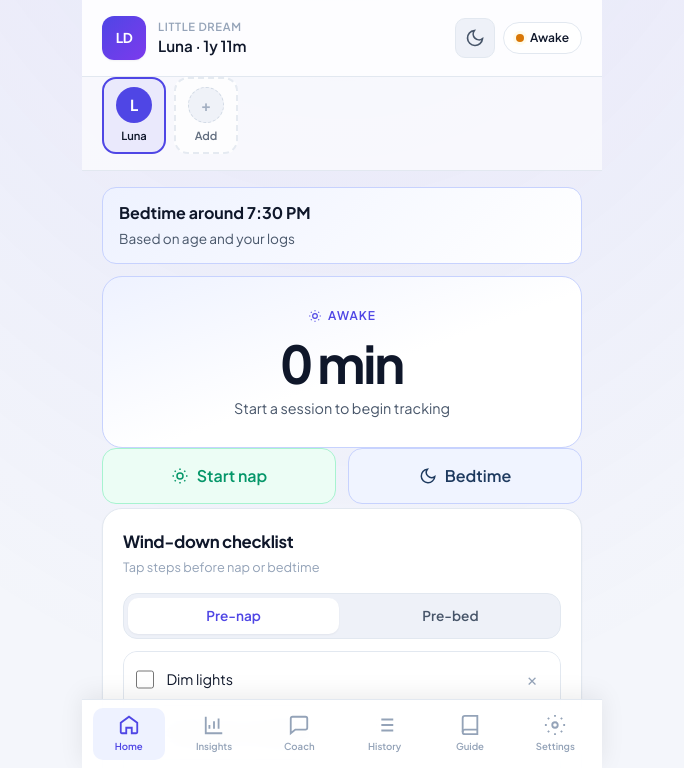
Test: App › shows time prompt when starting a nap and logs on Use now
The image size is (684, 768).
Step 1. Click the button "Start nap" → coordinates (219, 476), box [102,448,336,504]
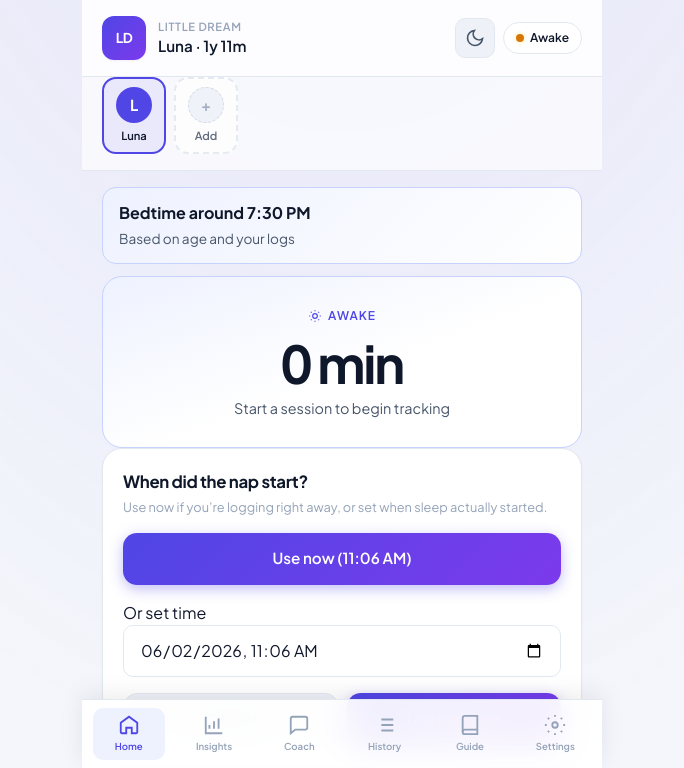
Result: the heading "When did the nap start?" is shown at [123,471,308,492]
Result: the button "Start nap" is gone
Step 2. Click the button "Use now (11:06 AM)" → coordinates (342, 559), box [123,533,561,584]
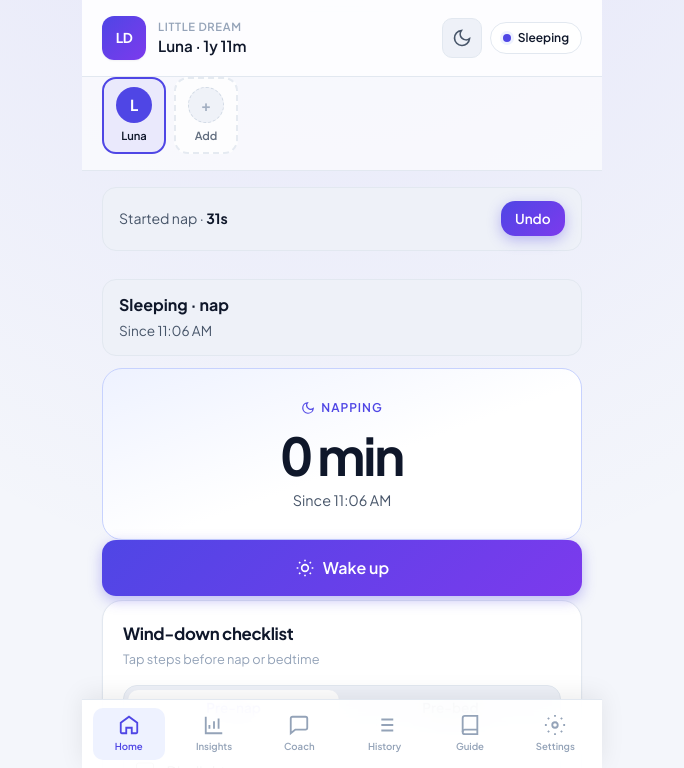
Result: the heading "When did the nap start" is gone
Result: the button with aria-label "mark baby awake" is shown at [102,540,582,596]
